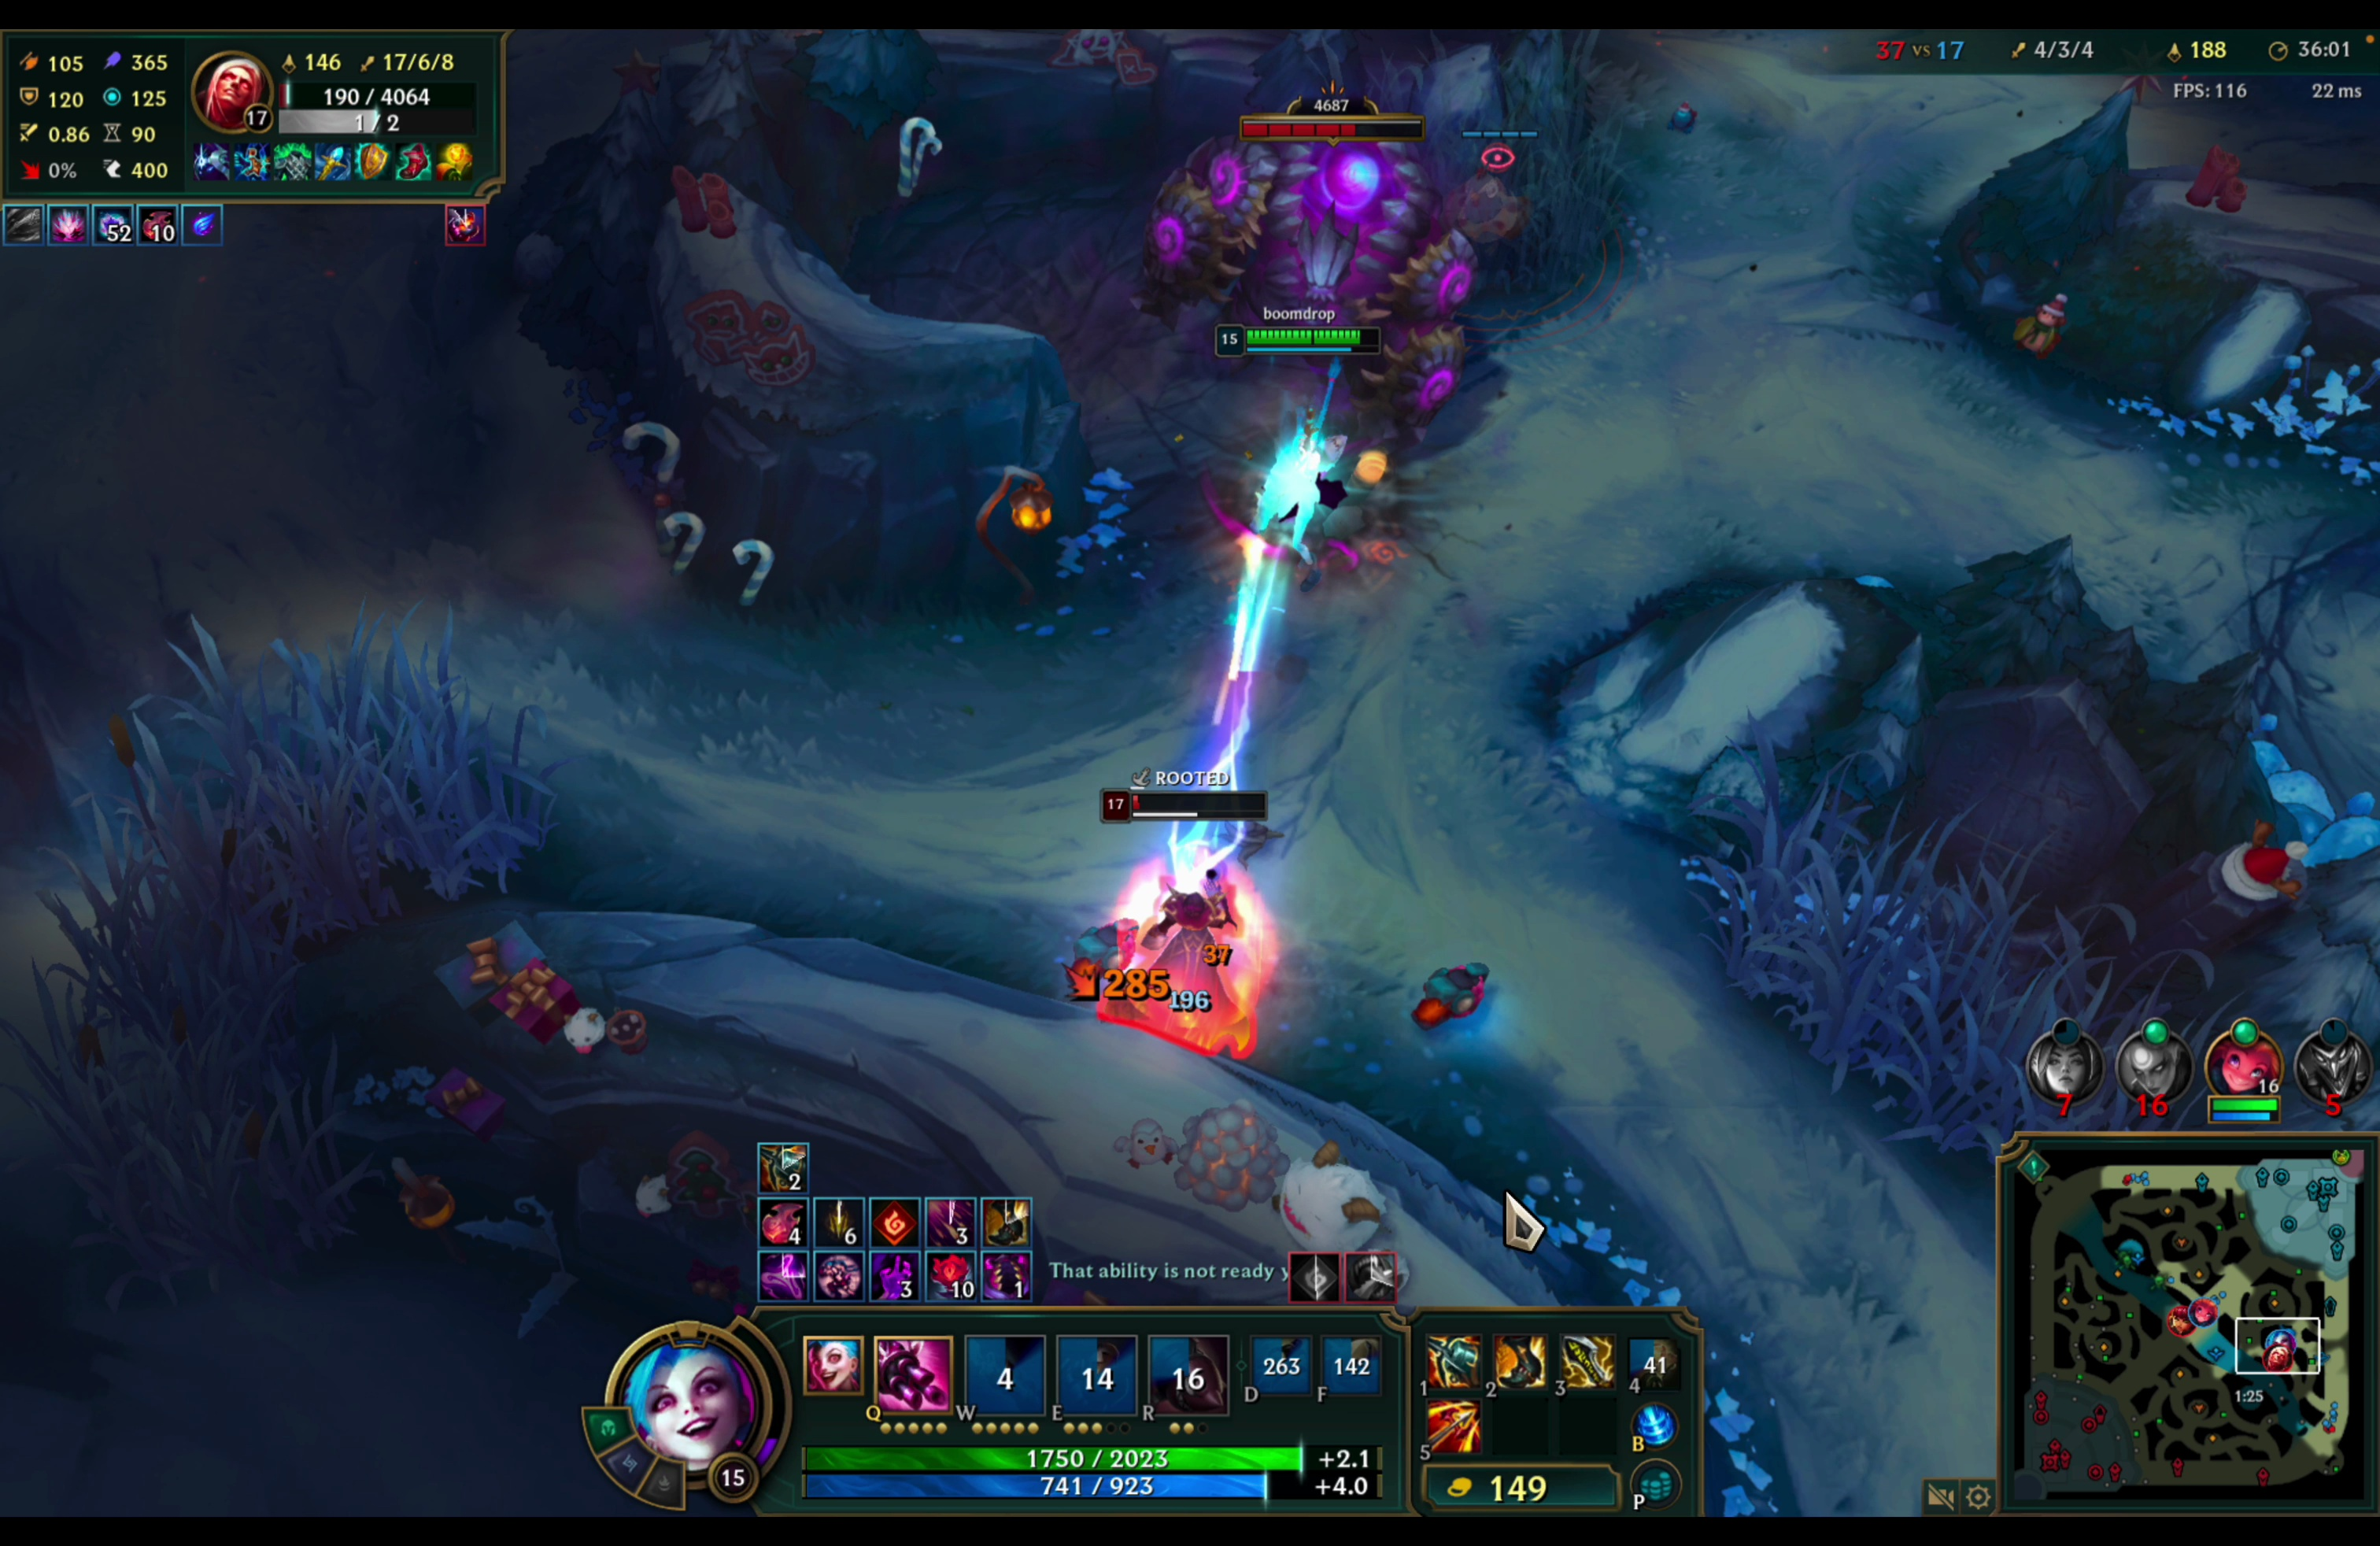JINX_W_PROJECTILE: (1126, 295, 1416, 928)
